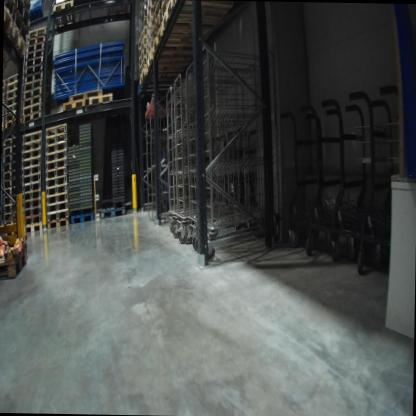pallet: (149, 24, 201, 56), (144, 48, 196, 74), (0, 243, 30, 284), (160, 1, 195, 33), (139, 66, 185, 89), (46, 0, 77, 34), (97, 204, 128, 223), (92, 170, 102, 219), (69, 208, 96, 226), (44, 215, 71, 233), (64, 87, 103, 99), (146, 14, 165, 38), (12, 13, 28, 39), (43, 157, 66, 175), (20, 129, 43, 147), (44, 122, 68, 139), (47, 206, 69, 224), (149, 0, 163, 28), (44, 175, 68, 191), (13, 22, 24, 56), (14, 0, 29, 24), (3, 5, 14, 37), (87, 94, 113, 107), (61, 100, 85, 114), (43, 200, 67, 214), (21, 94, 43, 109), (44, 184, 69, 197), (45, 142, 66, 157), (22, 222, 43, 237), (43, 167, 67, 180), (44, 131, 66, 145), (3, 150, 21, 167), (22, 102, 42, 117), (45, 149, 66, 163), (21, 111, 42, 125), (25, 26, 46, 40), (20, 165, 42, 178), (19, 189, 41, 202), (21, 205, 41, 219), (24, 79, 44, 93), (133, 8, 147, 28), (47, 192, 68, 205), (19, 148, 40, 161), (20, 174, 41, 187), (21, 155, 39, 170), (3, 192, 21, 207), (2, 135, 21, 149), (21, 87, 40, 101), (137, 0, 149, 22), (20, 179, 40, 192), (24, 42, 44, 55), (19, 199, 42, 210), (3, 203, 22, 216), (2, 169, 21, 182), (22, 139, 42, 151), (22, 57, 43, 68), (2, 210, 19, 223), (5, 73, 22, 86), (2, 162, 20, 174), (3, 144, 21, 156), (158, 0, 170, 18), (5, 93, 20, 107), (21, 65, 42, 75), (147, 0, 161, 15), (135, 20, 146, 39), (5, 88, 22, 100), (1, 177, 19, 188), (3, 110, 18, 123), (5, 81, 20, 94), (25, 71, 41, 83), (4, 0, 16, 16), (136, 37, 146, 56), (25, 35, 46, 44), (134, 30, 145, 47), (21, 215, 41, 224), (4, 103, 19, 115), (3, 119, 19, 129), (137, 60, 146, 77), (24, 52, 43, 60), (2, 187, 18, 196), (138, 48, 146, 63)
